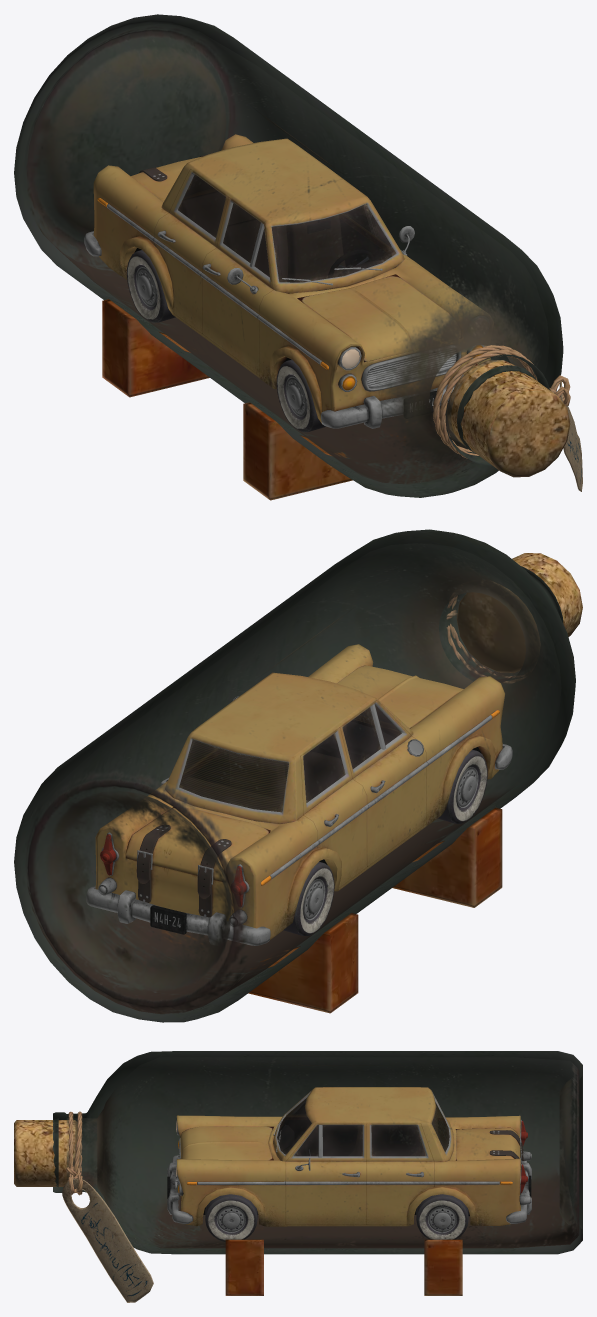
The model's file is bottled_car-transformed.glb.
3 renders of one model, top to bottom at view 1: azimuth 30°, elevation 25°; view 2: azimuth 150°, elevation 25°; view 3: azimuth 270°, elevation 25°, orthographic. The views are drawn at different scales.
Visible parts, largest first — view 1: Object_6, Object_2, Object_7, Object_5, Object_9, Object_11, Object_8; view 2: Object_6, Object_2, Object_7, Object_9, Object_5, Object_11; view 3: Object_6, Object_2, Object_7, Object_9, Object_5, Object_8, Object_11.
Boxes of the visible parts, left/top/right/bottom form: Object_6: left=24, top=24, right=548, bottom=484; Object_2: left=14, top=14, right=563, bottom=497; Object_7: left=93, top=134, right=490, bottom=423; Object_5: left=102, top=299, right=570, bottom=500; Object_9: left=84, top=153, right=484, bottom=432; Object_11: left=192, top=193, right=387, bottom=291; Object_8: left=559, top=381, right=582, bottom=491; Object_6: left=24, top=543, right=560, bottom=1014; Object_2: left=14, top=529, right=575, bottom=1022; Object_7: left=95, top=644, right=504, bottom=939; Object_9: left=86, top=696, right=512, bottom=945; Object_5: left=162, top=553, right=582, bottom=1013; Object_11: left=194, top=721, right=370, bottom=803; Object_6: left=66, top=1057, right=579, bottom=1248; Object_2: left=53, top=1051, right=582, bottom=1254; Object_7: left=176, top=1087, right=520, bottom=1226; Object_9: left=167, top=1098, right=531, bottom=1241; Object_5: left=14, top=1111, right=462, bottom=1295; Object_8: left=62, top=1178, right=153, bottom=1302; Object_11: left=279, top=1120, right=446, bottom=1153.
Size of the model in its own units: 0.1352 by 0.1327 by 0.3463.
Materials: 9 (7 with a texture image).
